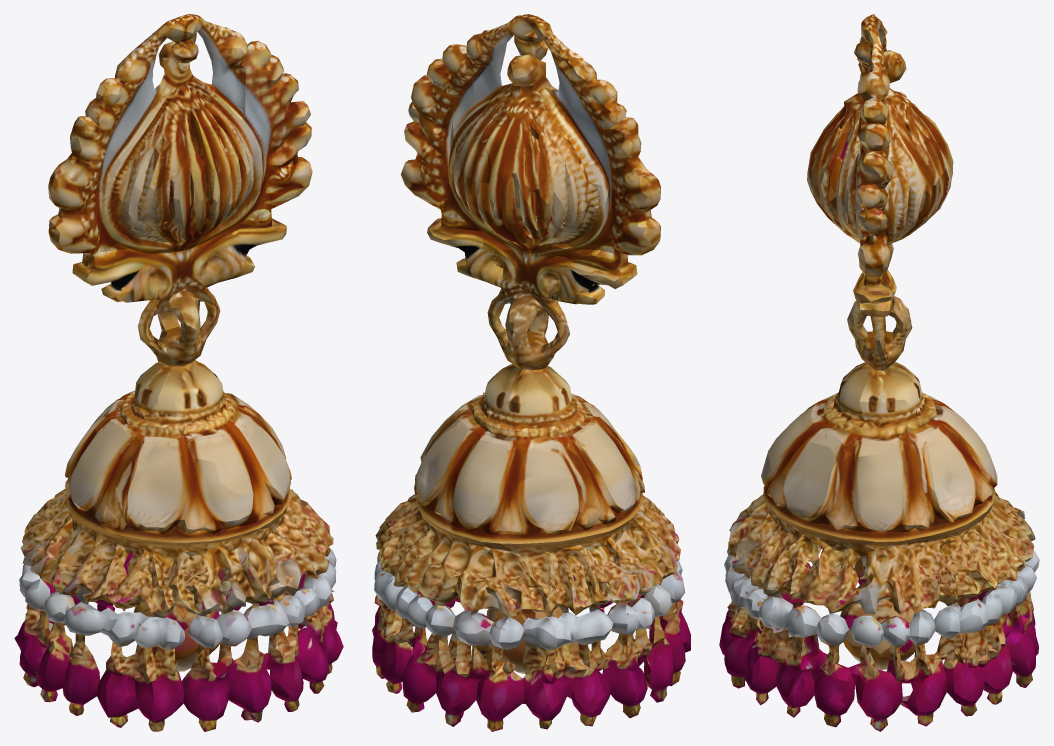
The model's file is jhumka_5.glb.
3 views of the same model, side by side, from view 1: azimuth 30°, elevation 25°; view 2: azimuth 150°, elevation 25°; view 3: azimuth 270°, elevation 25° (orthographic).
Parts seen in each view (by area): view 1: jhumka_5; view 2: jhumka_5; view 3: jhumka_5.
Boxes of the visible parts, x1,y1,x2,y2 form: jhumka_5: [14, 14, 343, 731]; jhumka_5: [372, 14, 690, 731]; jhumka_5: [719, 14, 1039, 731].
Size of the model in its own units: 0.447 by 0.9988 by 0.4458.
Materials: 1 (1 with a texture image).
